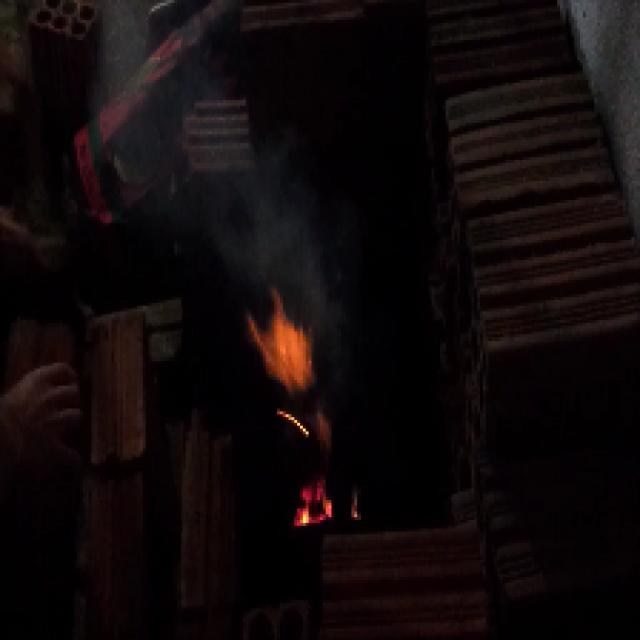Fire: (234, 282, 332, 396)
